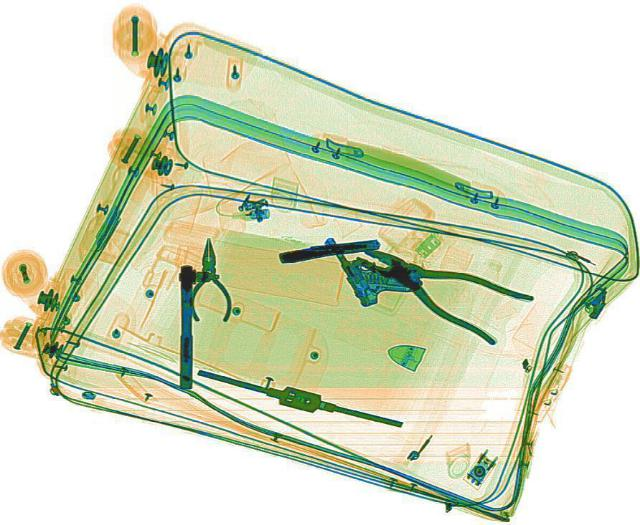Gun: (322, 222, 412, 307), (273, 236, 381, 263)
Pliers: (342, 220, 536, 345), (183, 237, 231, 320)
